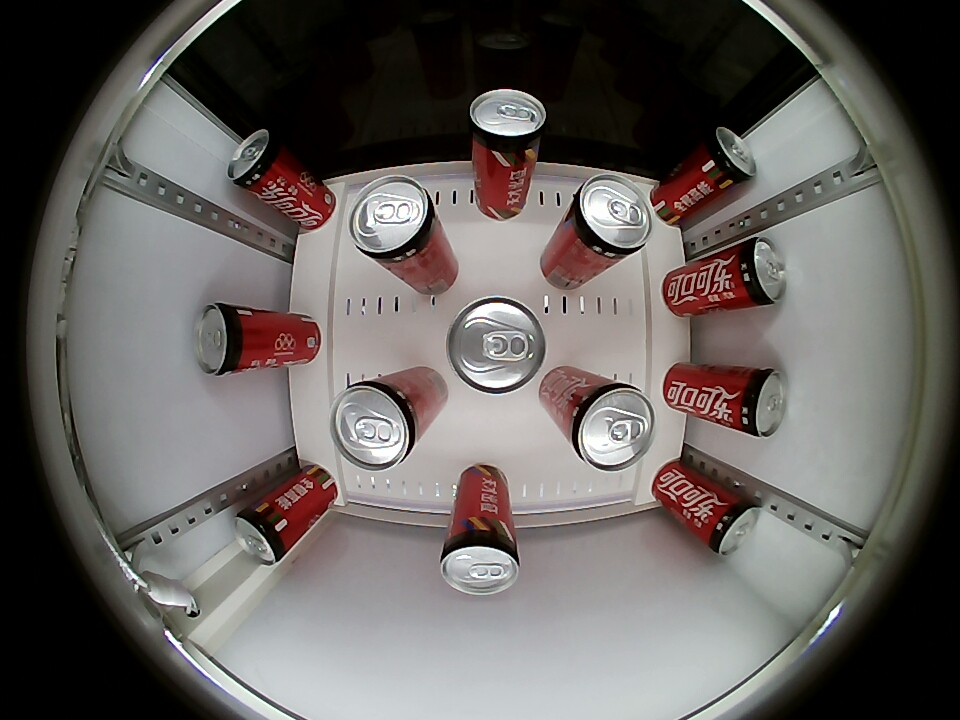lingdukele: (445, 295, 547, 395), (329, 377, 426, 472), (564, 379, 657, 472), (347, 175, 441, 267), (566, 174, 654, 261), (440, 526, 520, 596), (468, 89, 547, 159), (194, 302, 256, 377), (227, 130, 290, 198), (729, 237, 787, 309), (699, 489, 761, 556), (731, 366, 787, 438), (234, 500, 292, 565), (698, 126, 756, 191)
